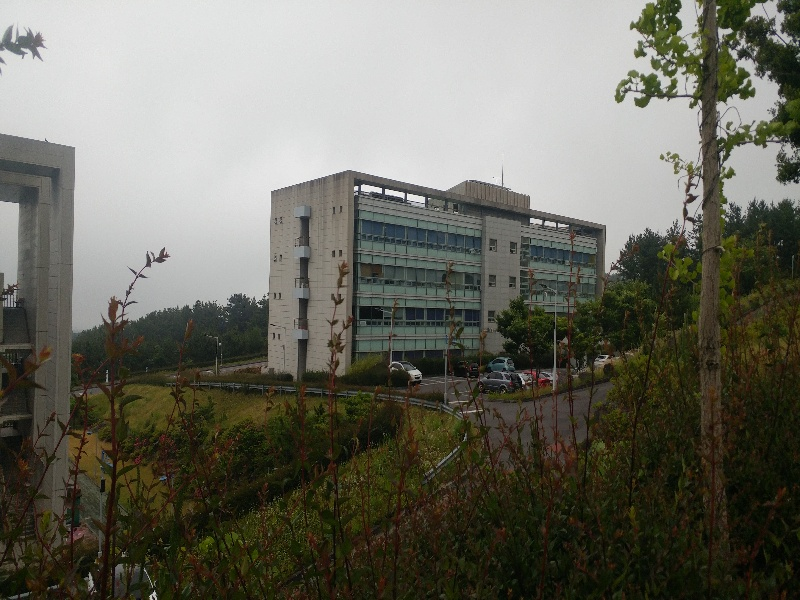College of Marine Science: (268, 164, 610, 359), (291, 180, 592, 340)
